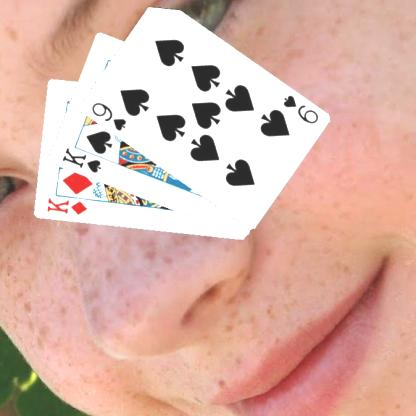9S: (88, 99, 127, 133), (280, 92, 320, 125)
KD: (44, 195, 88, 217)
KS: (58, 145, 102, 175)
